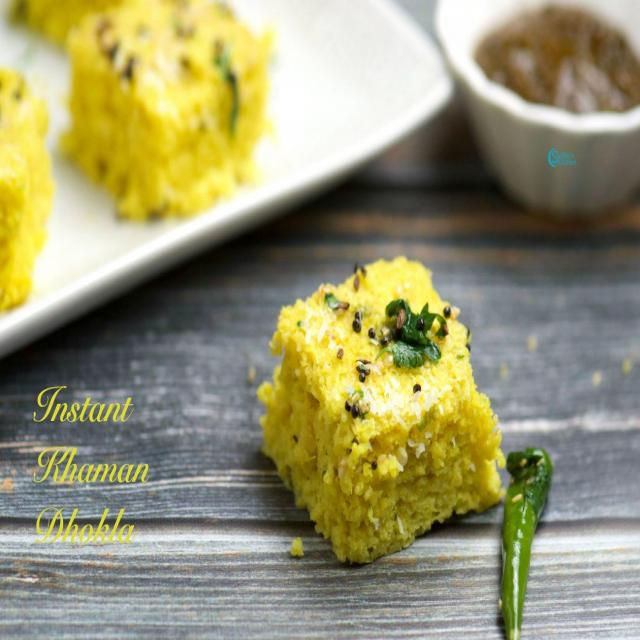dhokla: (0, 0, 254, 319), (268, 266, 505, 562)
